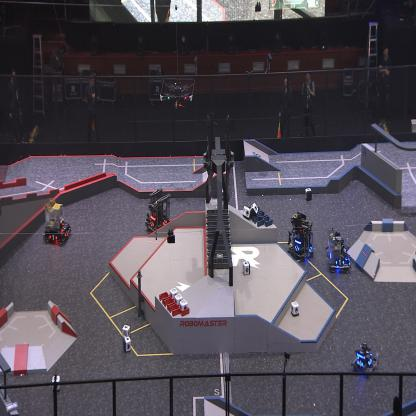car: (288, 210, 314, 262), (43, 199, 72, 245), (145, 188, 171, 235), (327, 228, 351, 273), (352, 341, 378, 376), (335, 230, 351, 258)
